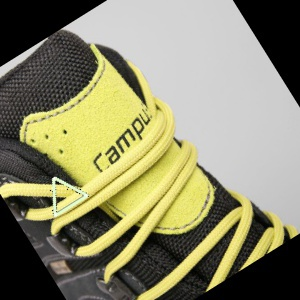triangle: (48, 174, 92, 219)
